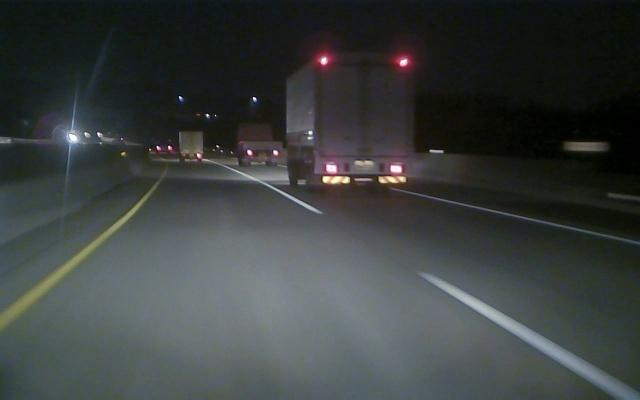lane: (241, 172, 637, 399), (1, 197, 147, 331), (412, 191, 639, 246)
